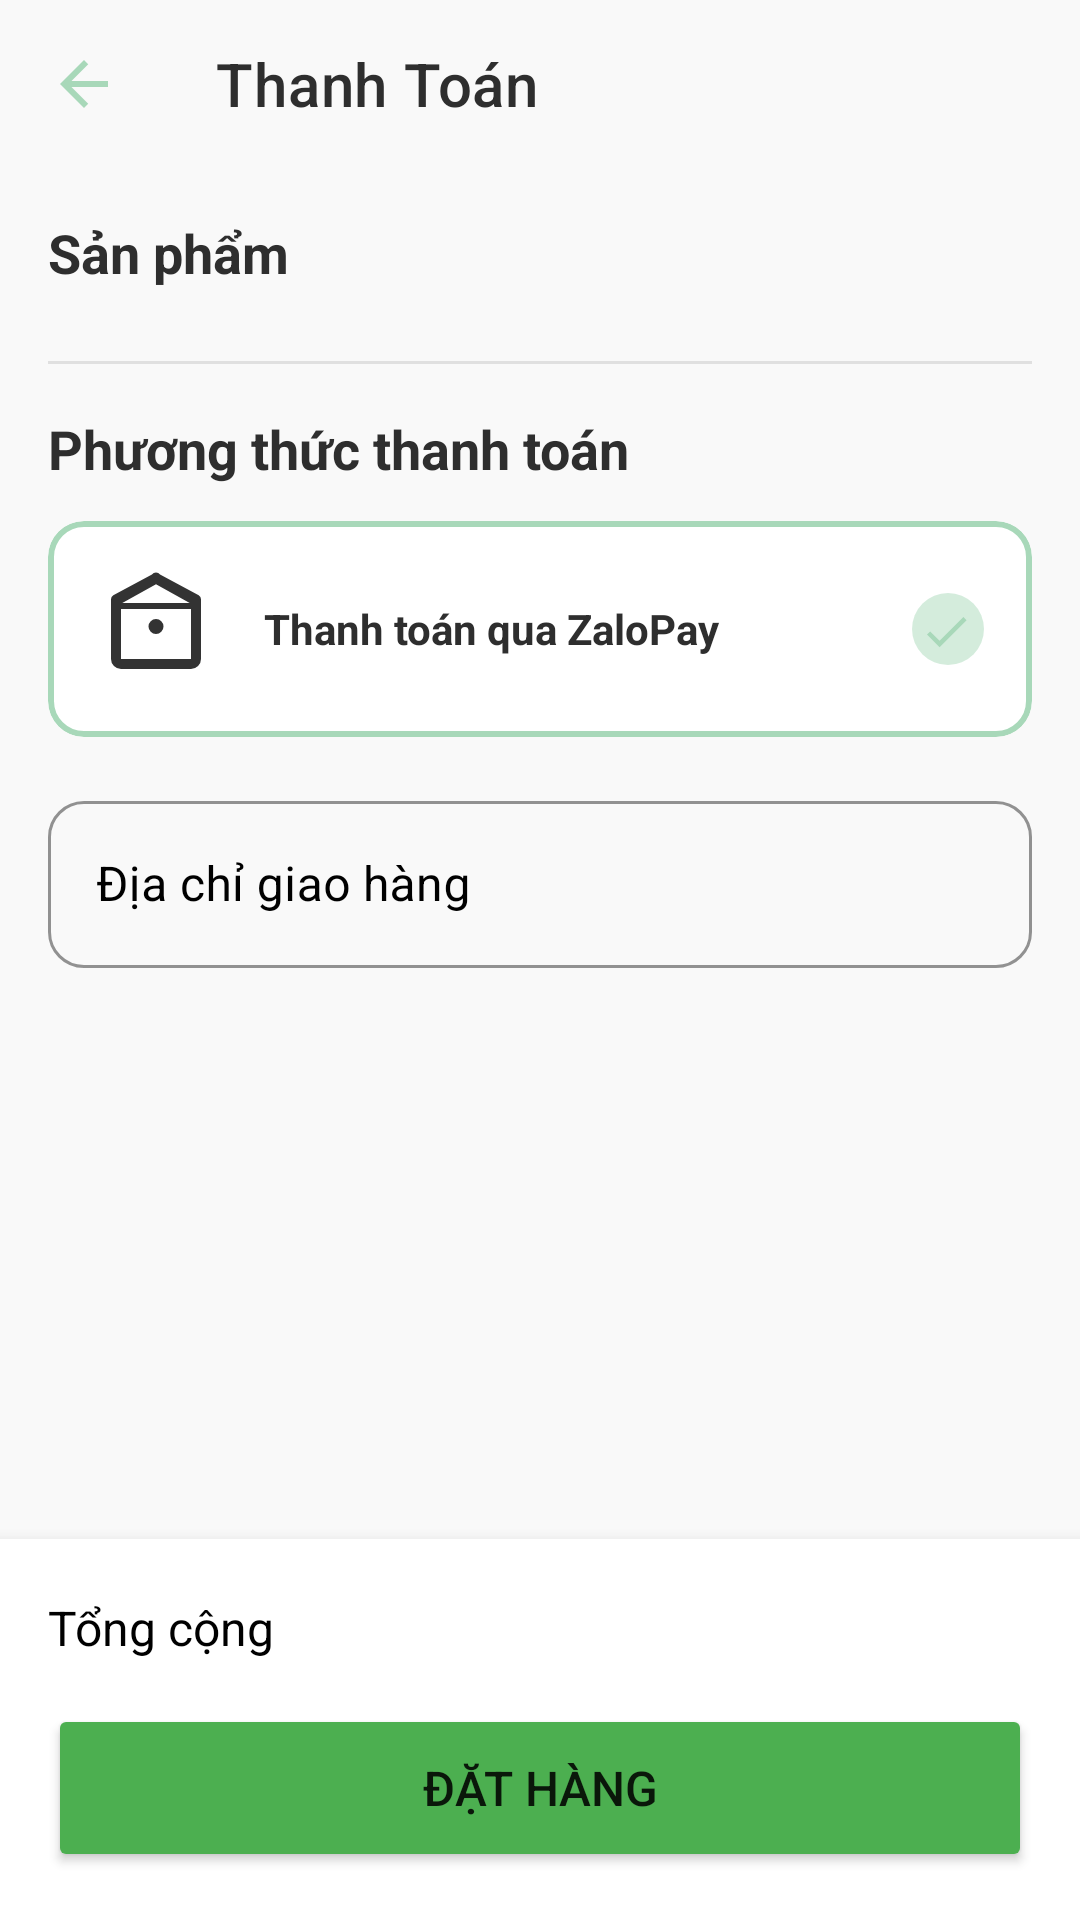

Icon click points for this 1080x1920 phone screenshot, format (x=x, y=y):
chip checked circle: (x=948, y=629)
